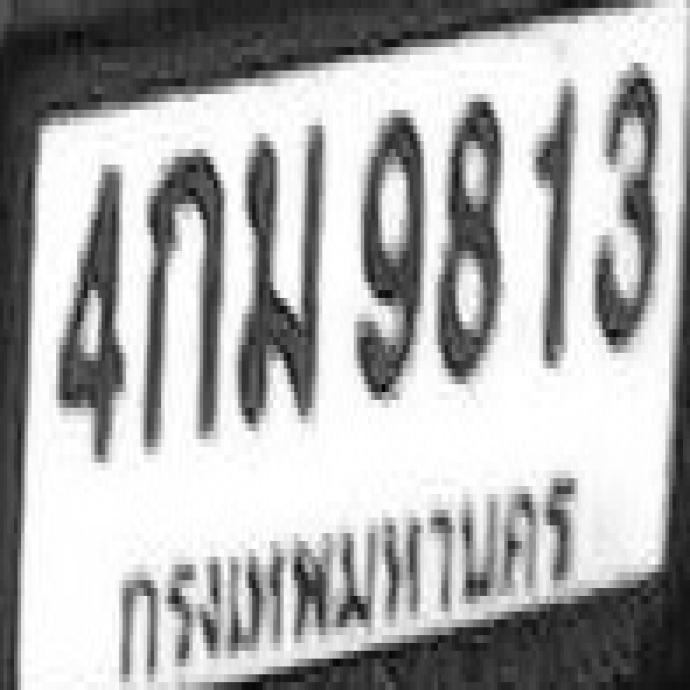1: (531, 76, 572, 361)
3: (590, 57, 655, 345)
4: (53, 156, 120, 453)
8: (433, 89, 499, 376)
9: (353, 104, 420, 394)
A01: (139, 145, 220, 443)
A33: (234, 119, 321, 419)
BKK: (104, 461, 589, 659)
